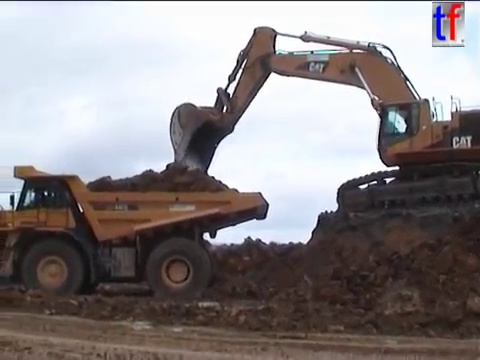excavator: (167, 24, 480, 220)
truck: (1, 163, 272, 304)
